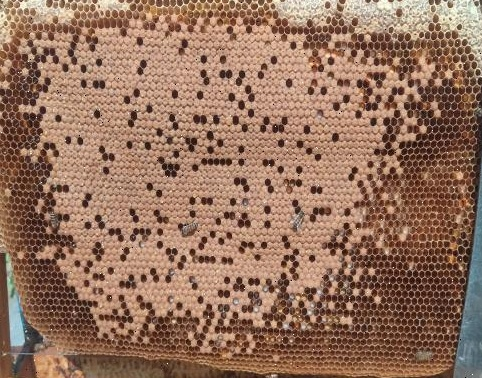cria: (0, 12, 469, 361)
